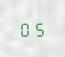five: (32, 20, 44, 36)
zero: (19, 20, 31, 37)
